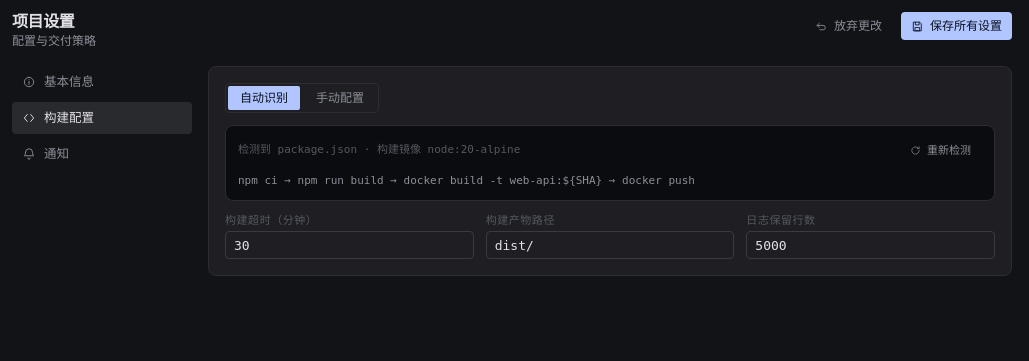
Test: ProjectSettingsView › 切到手动配置显示 YAML 编辑区
Click the button "手动配置": (340, 98) [304, 86, 376, 110]
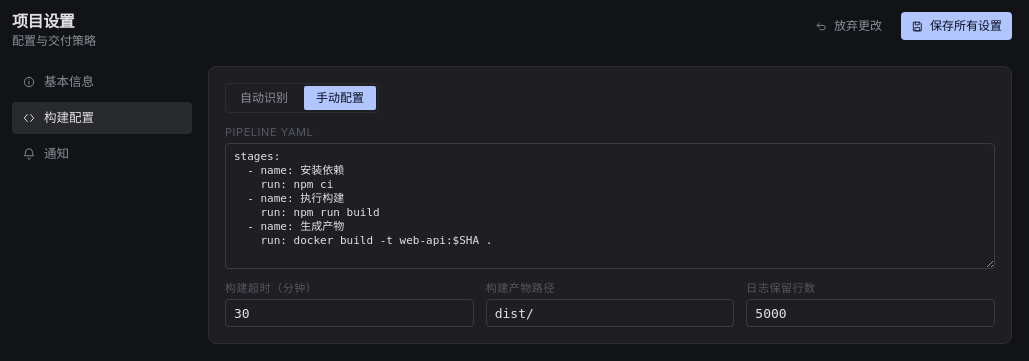
Expected: the text "Pipeline YAML" is shown, [225, 125, 313, 139]
Expected: the text box labelled "Pipeline YAML" is shown, [225, 143, 995, 269]
